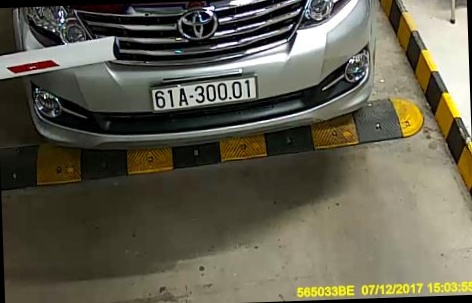plate: (149, 72, 263, 114)
